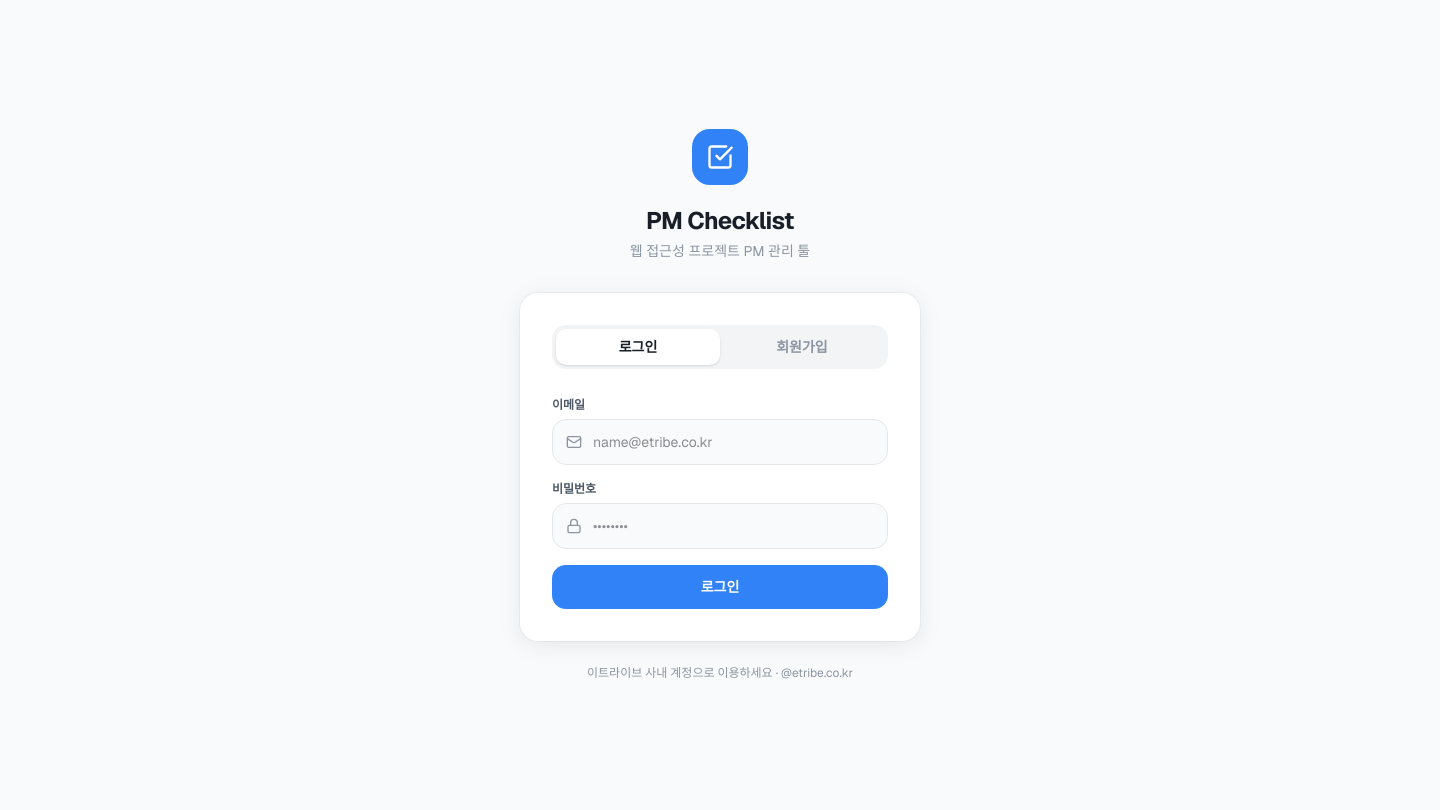
Auth Component › displays error message on failed login
Type "user@etribe.co.kr" into the field with placeholder "name@etribe.co.kr".
click(720, 442); type("user@etribe.co.kr")  # box x1=552 y1=419 x2=888 y2=465
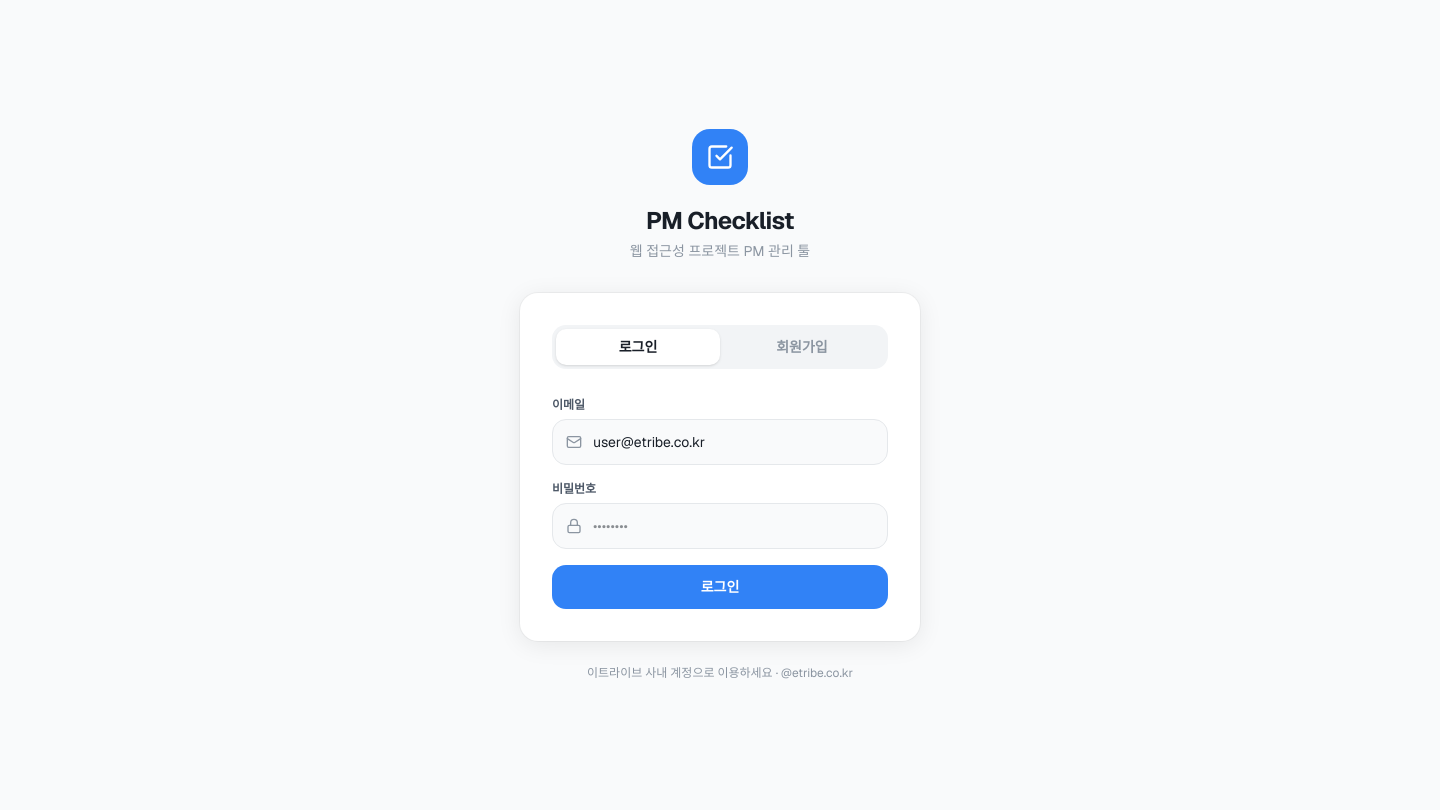
Type "wrong-pass" into the password field with placeholder "••••••••".
click(720, 526); type("wrong-pass")  # box x1=552 y1=503 x2=888 y2=549
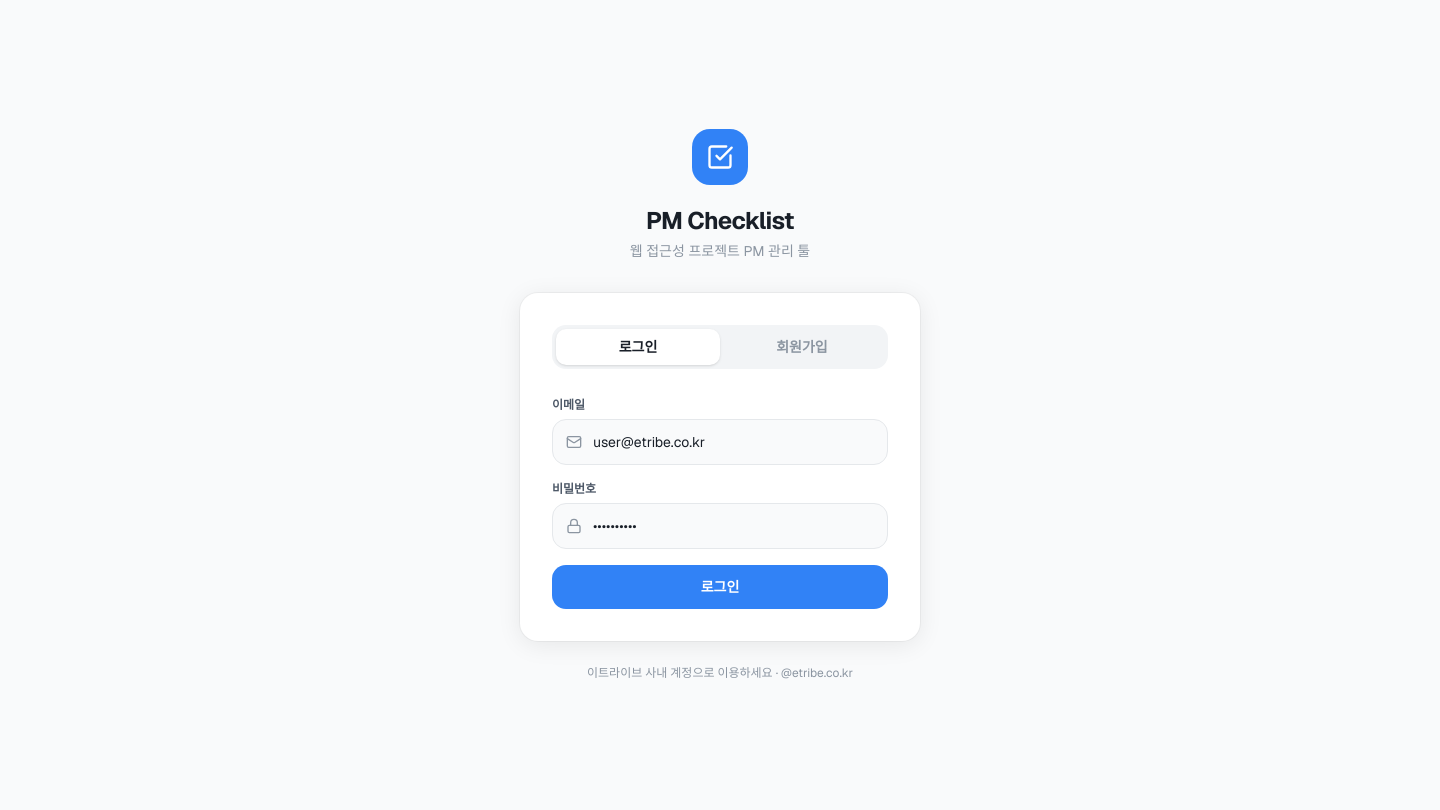
Click the button "로그인".
click(720, 587)  # box x1=552 y1=565 x2=888 y2=609
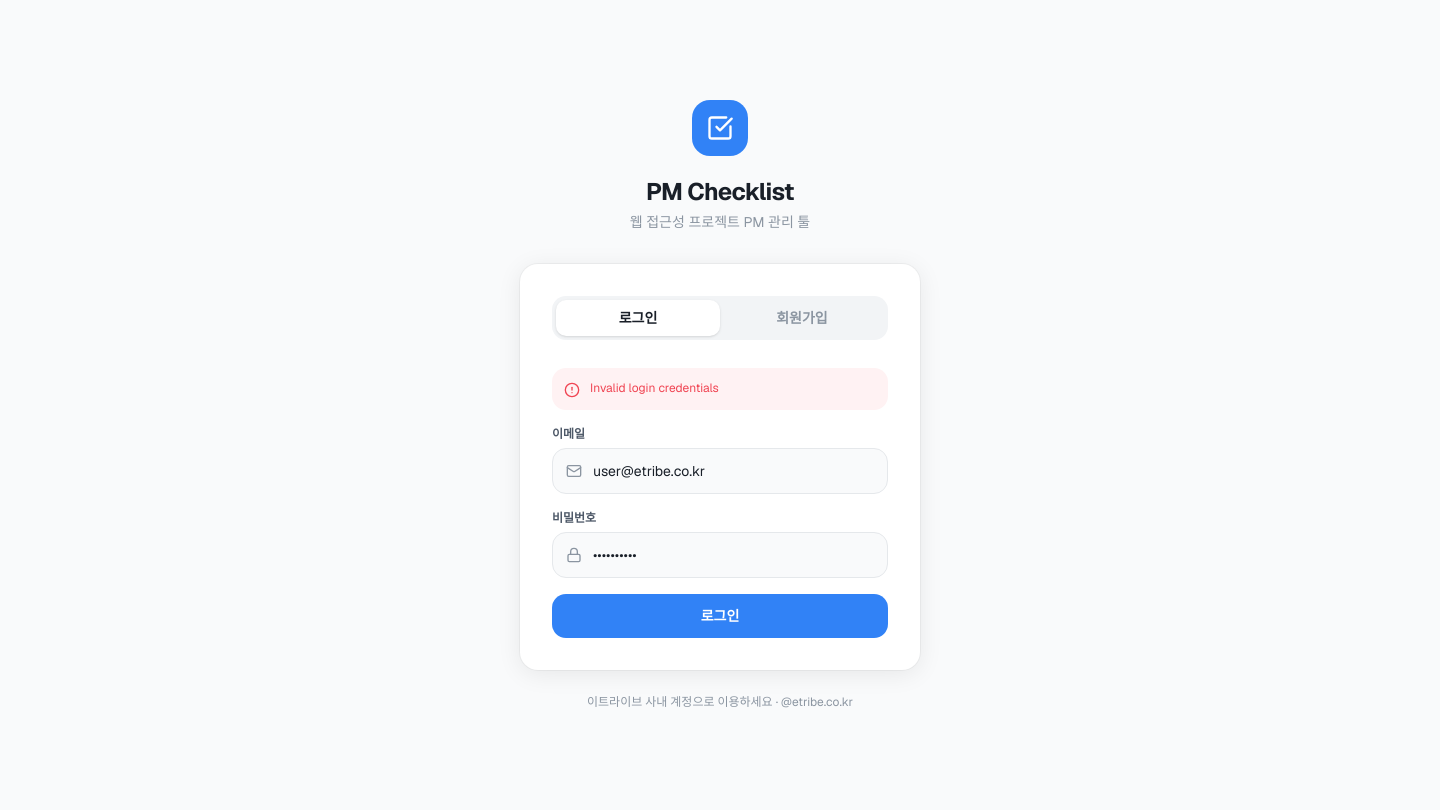
expect the text "Invalid login credentials" is shown: met, box x1=590 y1=380 x2=719 y2=396
